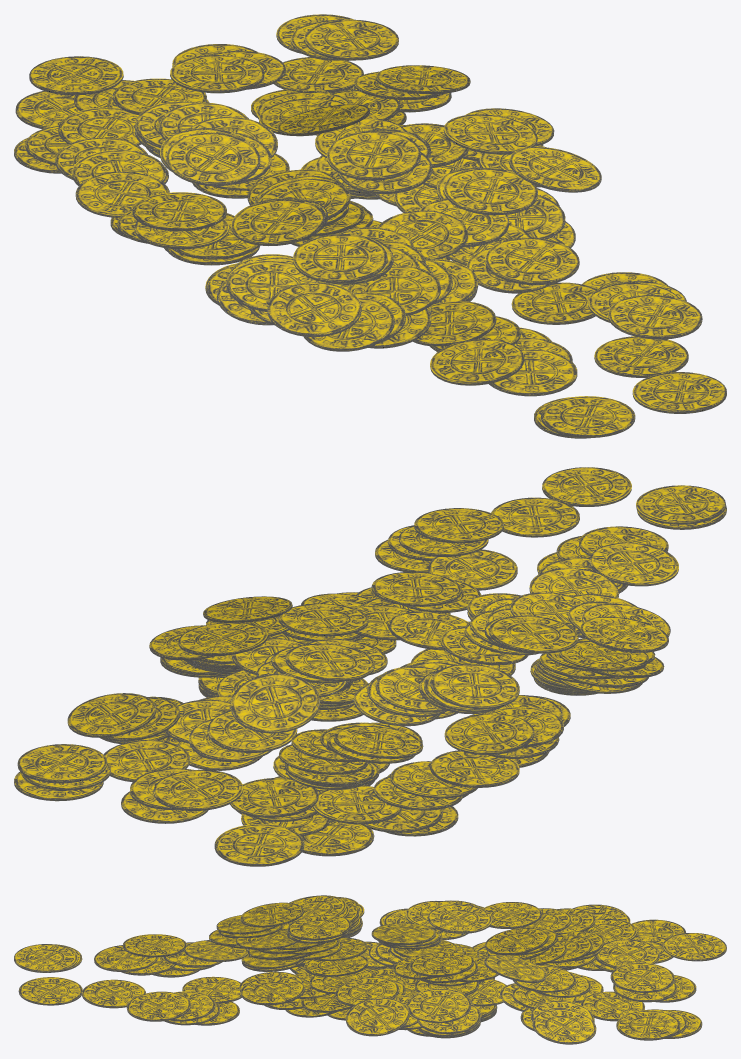
Rendered from coins.glb.
3 renders of one model, top to bottom at view 1: azimuth 30°, elevation 25°; view 2: azimuth 150°, elevation 25°; view 3: azimuth 270°, elevation 25°, orthographic. The views are drawn at different scales.
Visible parts, largest first — view 1: Coin001_inst000_LP189_1_0, Coin001_inst000_LP081_1_0, Coin001_inst000_LP133_1_0, Coin001_inst000_LP178_1_0, Coin001_inst000_LP040_1_0, Coin001_inst000_LP111_1_0, Coin001_inst000_LP175_1_0, Coin001_inst000_LP093_1_0, Coin001_inst000_LP045_1_0, Coin001_inst000_LP047_1_0, Coin001_inst000_LP094_1_0, Coin001_inst000_LP011_1_0 (+54 smaller); view 2: Coin001_inst000_LP030_1_0, Coin001_inst000_LP175_1_0, Coin001_inst000_LP083_1_0, Coin001_inst000_LP093_1_0, Coin001_inst000_LP006_1_0, Coin001_inst000_LP170_1_0, Coin001_inst000_LP026_1_0, Coin001_inst000_LP002_1_0, Coin001_inst000_LP047_1_0, Coin001_inst000_LP094_1_0, Coin001_inst000_LP046_1_0, Coin001_inst000_LP133_1_0 (+53 smaller); view 3: Coin001_inst000_LP011_1_0, Coin001_inst000_LP006_1_0, Coin001_inst000_LP104_1_0, Coin001_inst000_LP026_1_0, Coin001_inst000_LP045_1_0, Coin001_inst000_LP002_1_0, Coin001_inst000_LP170_1_0, Coin001_inst000_LP094_1_0, Coin001_inst000_LP047_1_0, Coin001_inst000_LP083_1_0, Coin001_inst000_LP040_1_0, Coin001_inst000_LP046_1_0 (+66 smaller).
Boxes of the visible parts, box(x1,y1,x2,y2) form: Coin001_inst000_LP189_1_0: box(267, 282, 361, 336); Coin001_inst000_LP081_1_0: box(166, 132, 260, 186); Coin001_inst000_LP133_1_0: box(326, 130, 421, 180); Coin001_inst000_LP178_1_0: box(293, 233, 387, 283); Coin001_inst000_LP040_1_0: box(485, 237, 579, 285); Coin001_inst000_LP111_1_0: box(443, 168, 537, 215); Coin001_inst000_LP175_1_0: box(231, 199, 325, 246); Coin001_inst000_LP093_1_0: box(430, 339, 524, 385); Coin001_inst000_LP045_1_0: box(608, 294, 702, 339); Coin001_inst000_LP047_1_0: box(632, 372, 726, 413); Coin001_inst000_LP094_1_0: box(541, 396, 635, 437); Coin001_inst000_LP011_1_0: box(509, 147, 601, 192); Coin001_inst000_LP030_1_0: box(230, 673, 319, 733); Coin001_inst000_LP175_1_0: box(430, 664, 519, 709); Coin001_inst000_LP083_1_0: box(214, 824, 304, 866); Coin001_inst000_LP093_1_0: box(589, 542, 678, 586); Coin001_inst000_LP006_1_0: box(67, 693, 156, 737); Coin001_inst000_LP170_1_0: box(444, 713, 534, 754); Coin001_inst000_LP026_1_0: box(153, 769, 243, 810); Coin001_inst000_LP002_1_0: box(17, 744, 107, 783); Coin001_inst000_LP047_1_0: box(542, 467, 631, 506); Coin001_inst000_LP094_1_0: box(636, 485, 725, 524); Coin001_inst000_LP046_1_0: box(491, 497, 579, 537); Coin001_inst000_LP133_1_0: box(285, 643, 374, 681); Coin001_inst000_LP011_1_0: box(345, 997, 409, 1036); Coin001_inst000_LP006_1_0: box(532, 1009, 596, 1044); Coin001_inst000_LP104_1_0: box(407, 988, 471, 1022); Coin001_inst000_LP026_1_0: box(610, 962, 674, 992); Coin001_inst000_LP045_1_0: box(126, 991, 190, 1021); Coin001_inst000_LP002_1_0: box(616, 1011, 680, 1040); Coin001_inst000_LP170_1_0: box(428, 904, 492, 933); Coin001_inst000_LP094_1_0: box(14, 944, 77, 972); Coin001_inst000_LP047_1_0: box(18, 977, 82, 1005); Coin001_inst000_LP083_1_0: box(662, 933, 726, 961); Coin001_inst000_LP040_1_0: box(240, 976, 304, 1005); Coin001_inst000_LP046_1_0: box(82, 979, 145, 1008).
Size of the model in its own units: 0.178 by 0.0164 by 0.378.
Materials: 1 (1 with a texture image).
